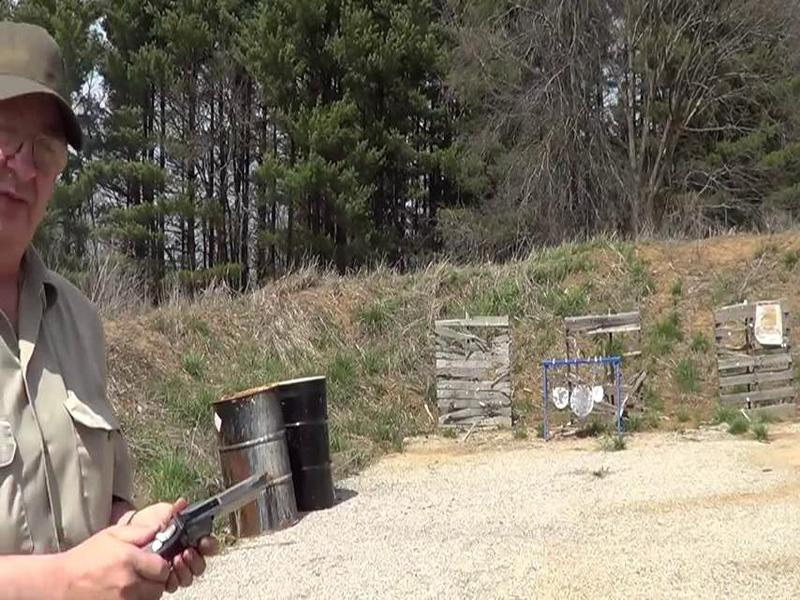Revolver: (134, 470, 291, 574)
